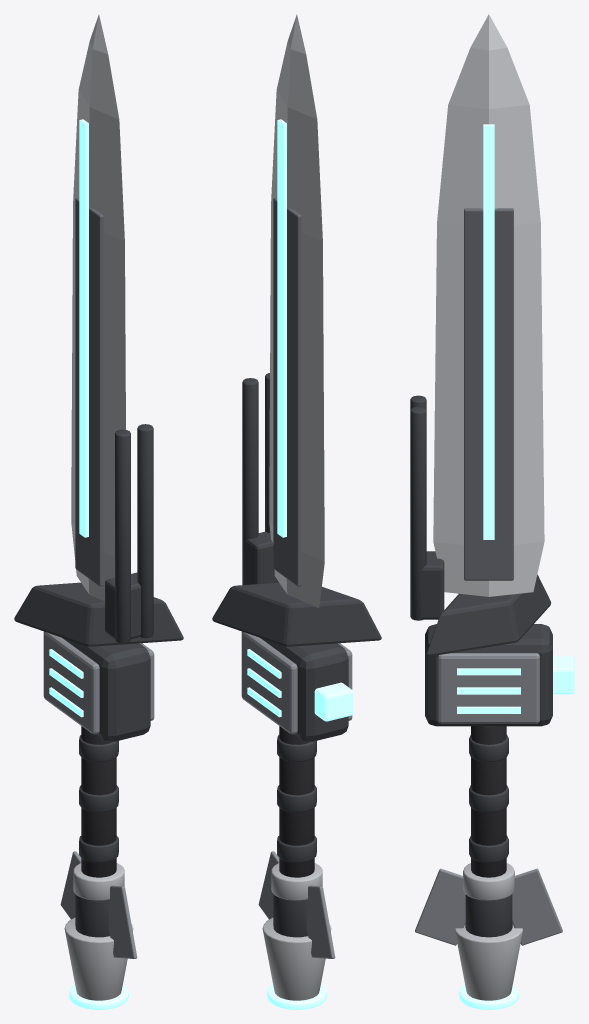
The model's file is striker.glb.
3 views of the same model, side by side, from view 1: azimuth 30°, elevation 25°; view 2: azimuth 210°, elevation 25°; view 3: azimuth 270°, elevation 25° (orthographic).
Parts seen in each view (by area): view 1: Blade, Panel-1, Collar, Housing, Spine_L, Barrel0, Barrel1, Cheek-1, NozzleBell0, Grip, Fin-1, NozzleBody0 (+7 smaller); view 2: Blade, Panel1, Collar, Spine_R, Housing, Cheek1, NozzleBell0, Grip, Barrel1, Fin1, BarrelMount, CoreCell (+8 smaller); view 3: Blade, Panel1, Cheek1, Collar, Spine_R, NozzleBell0, Grip, Housing, Barrel1, Fin-1, Fin1, NozzleBody0 (+10 smaller).
Part boxes in pixels (left/top/right/bottom): Blade: left=71, top=14, right=125, bottom=601; Panel-1: left=75, top=197, right=103, bottom=586; Collar: left=14, top=582, right=183, bottom=646; Housing: left=62, top=638, right=150, bottom=741; Spine_L: left=79, top=119, right=88, bottom=537; Barrel0: left=115, top=429, right=130, bottom=643; Barrel1: left=137, top=424, right=153, bottom=638; Cheek-1: left=43, top=631, right=99, bottom=734; NozzleBell0: left=64, top=917, right=133, bottom=1000; Grip: left=81, top=726, right=116, bottom=877; Fin-1: left=108, top=885, right=137, bottom=958; NozzleBody0: left=75, top=894, right=109, bottom=937; Blade: left=269, top=14, right=324, bottom=607; Panel1: left=273, top=197, right=301, bottom=586; Collar: left=212, top=582, right=381, bottom=646; Spine_R: left=277, top=119, right=286, bottom=537; Housing: left=260, top=638, right=348, bottom=741; Cheek1: left=241, top=631, right=297, bottom=734; NozzleBell0: left=262, top=917, right=331, bottom=1000; Grip: left=279, top=726, right=314, bottom=877; Barrel1: left=242, top=378, right=258, bottom=584; Fin1: left=306, top=885, right=335, bottom=958; BarrelMount: left=245, top=531, right=278, bottom=584; CoreCell: left=314, top=682, right=352, bottom=721; Blade: left=433, top=14, right=544, bottom=596; Panel1: left=464, top=208, right=513, bottom=580; Cheek1: left=437, top=653, right=539, bottom=723; Collar: left=426, top=574, right=551, bottom=656; Spine_R: left=483, top=124, right=494, bottom=539; NozzleBell0: left=455, top=924, right=522, bottom=1000; Grip: left=471, top=726, right=506, bottom=877; Housing: left=425, top=624, right=552, bottom=726; Barrel1: left=410, top=406, right=426, bottom=620; Fin-1: left=415, top=868, right=465, bottom=945; Fin1: left=512, top=868, right=562, bottom=945; NozzleBody0: left=465, top=894, right=512, bottom=937.
Bounding box in the file's own units: 0.3362 × 2.93 × 0.4431.
